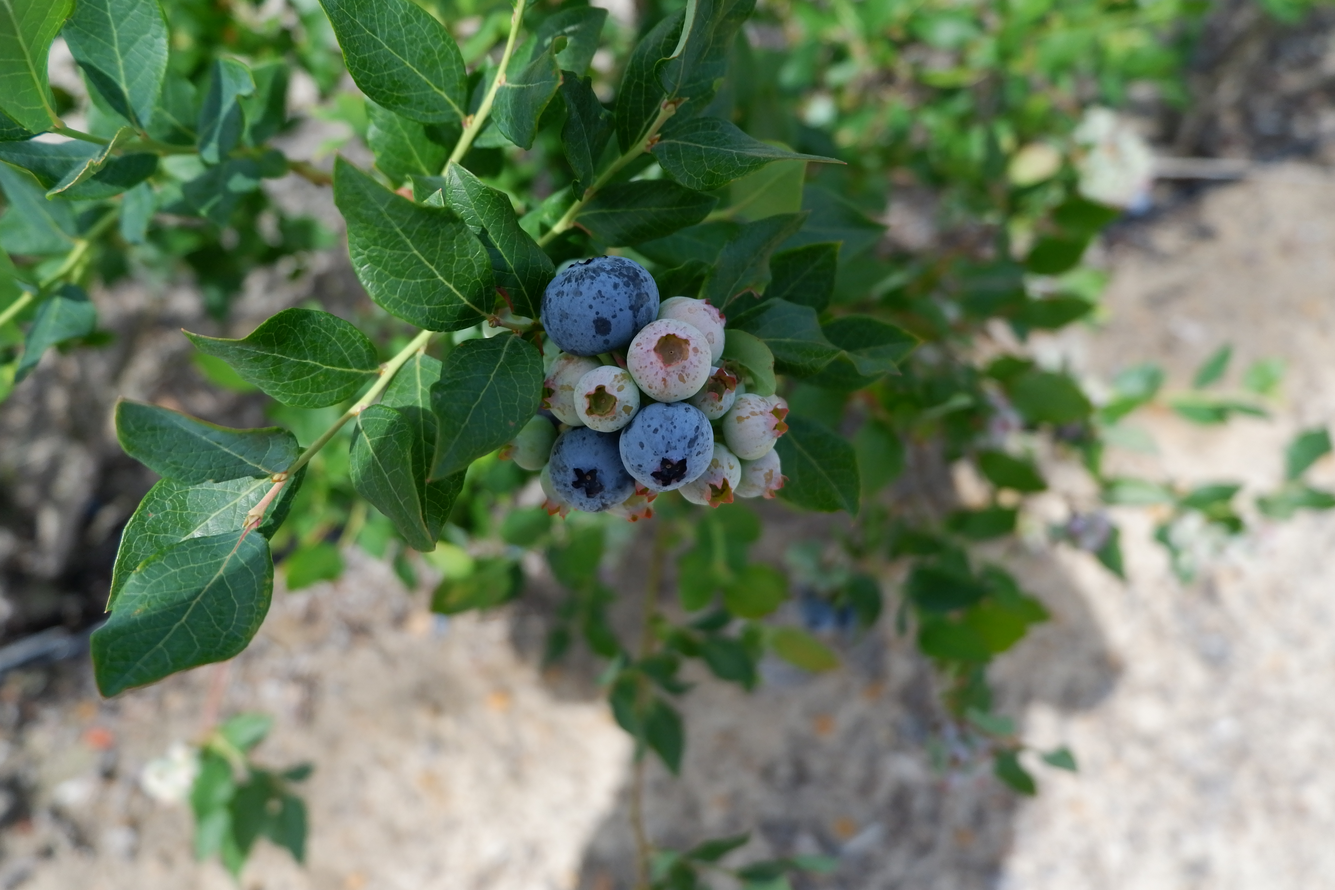Immature: (630, 321, 709, 400), (658, 295, 723, 359), (720, 394, 786, 457), (543, 353, 601, 424), (574, 367, 639, 429), (679, 444, 740, 504), (677, 365, 736, 420), (507, 416, 558, 470), (736, 450, 781, 496), (539, 464, 570, 518), (606, 488, 656, 520), (715, 359, 746, 399)
Mature: (542, 257, 655, 351), (622, 403, 711, 488), (549, 428, 632, 512)
